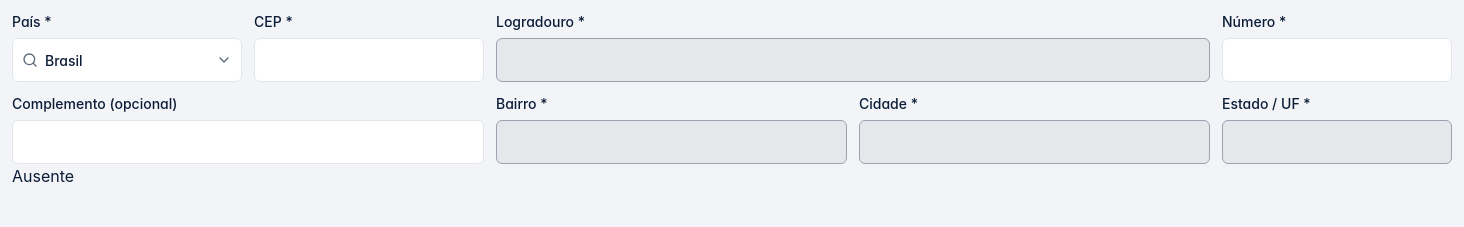
Test case: consulta com falha mantém o endereço protegido e permite tentar novamente
Type "01001000" into the field labelled "CEP *".
click(369, 60); type("01001000")  # box x1=254 y1=38 x2=484 y2=82
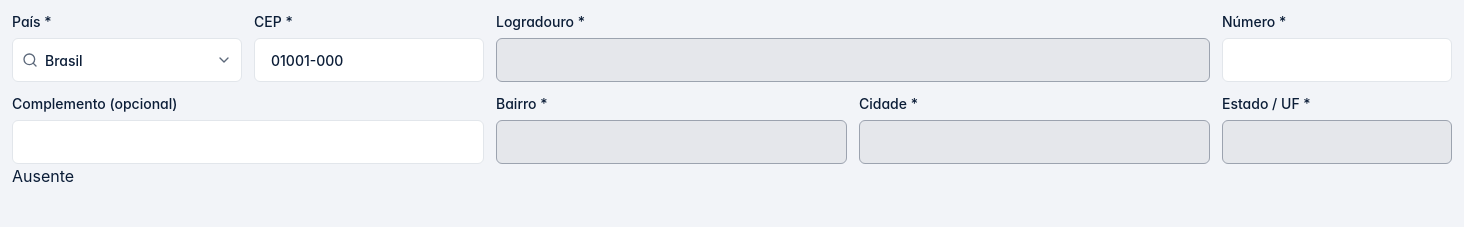
Leave the field labelled "CEP *", box x1=254 y1=38 x2=484 y2=82
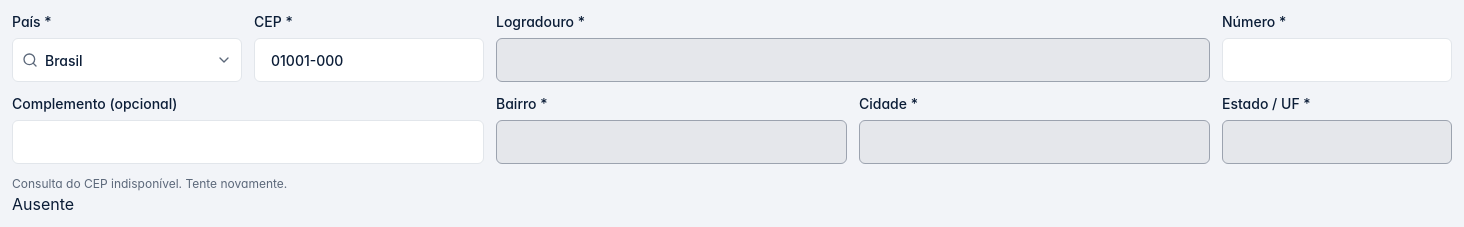
expect the text "Consulta do CEP indisponível. Tente novamente." is shown: met, box x1=12 y1=176 x2=287 y2=191
Leave the field labelled "CEP *", box x1=254 y1=38 x2=484 y2=82
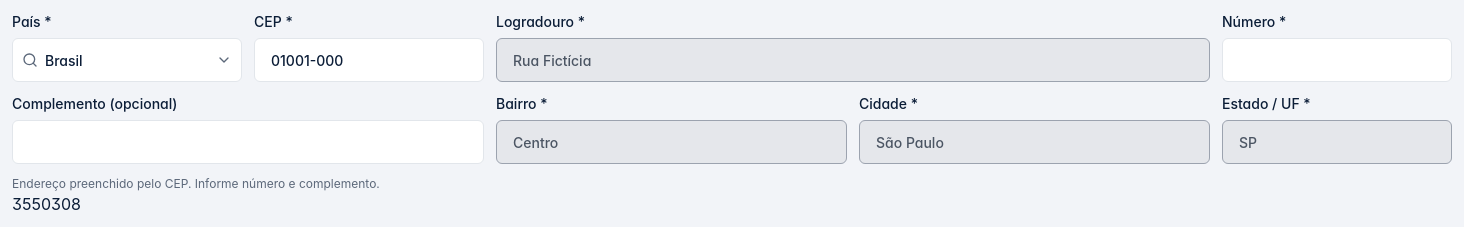
expect the text "Endereço preenchido pelo CEP. Informe número e complemento." is shown: met, box x1=12 y1=176 x2=380 y2=191
